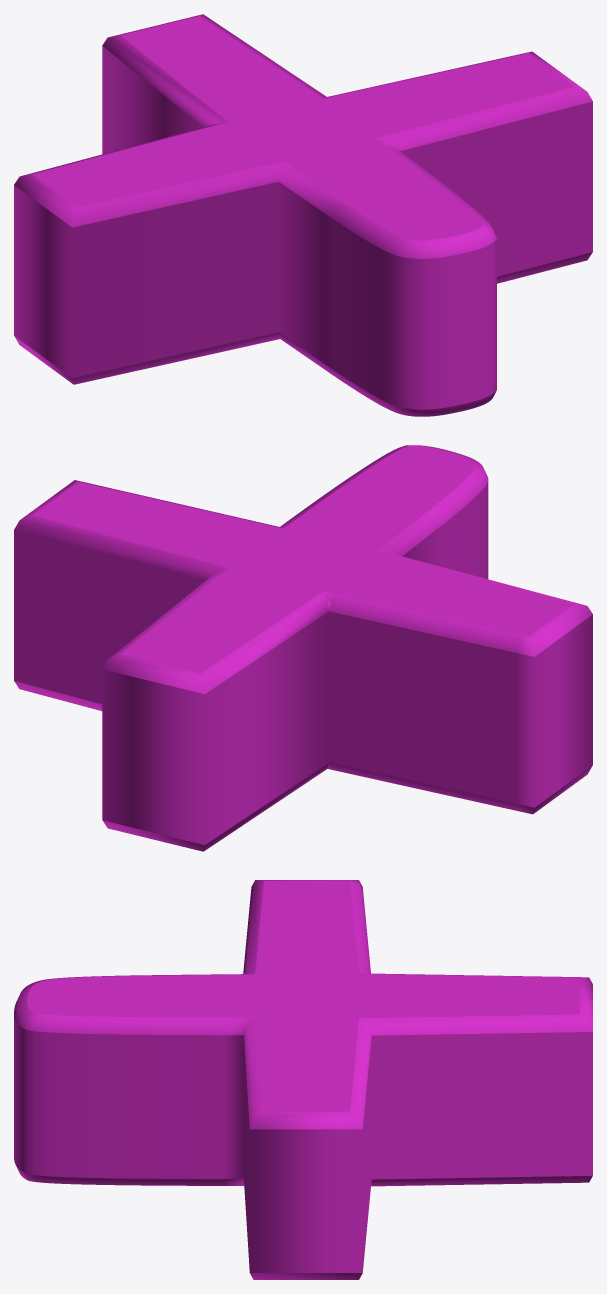
File: Blocky_PlusSign.fbx
3 renders of one model, top to bottom at view 1: azimuth 30°, elevation 25°; view 2: azimuth 150°, elevation 25°; view 3: azimuth 270°, elevation 25°, orthographic. The views are drawn at different scales.
Parts seen in each view (by area): view 1: BlockyPlusSign; view 2: BlockyPlusSign; view 3: BlockyPlusSign.
Part boxes in pixels (box(x1,y1,x2,y2)): BlockyPlusSign: box(14, 14, 592, 416); BlockyPlusSign: box(14, 445, 592, 851); BlockyPlusSign: box(14, 880, 592, 1279).
Size of the model in its own units: 0.4332 by 0.14 by 0.4376.
